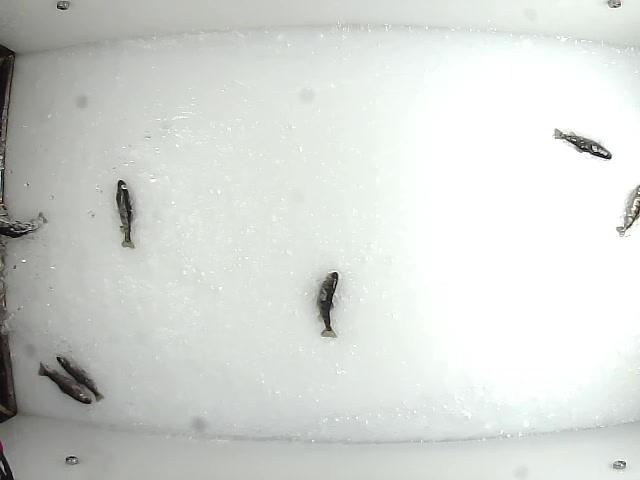fish: (35, 361, 94, 406), (54, 355, 105, 405), (550, 127, 613, 159), (113, 179, 138, 253), (316, 270, 341, 338)
